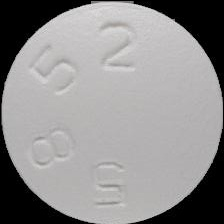0615-7722: (0, 0, 224, 224)
